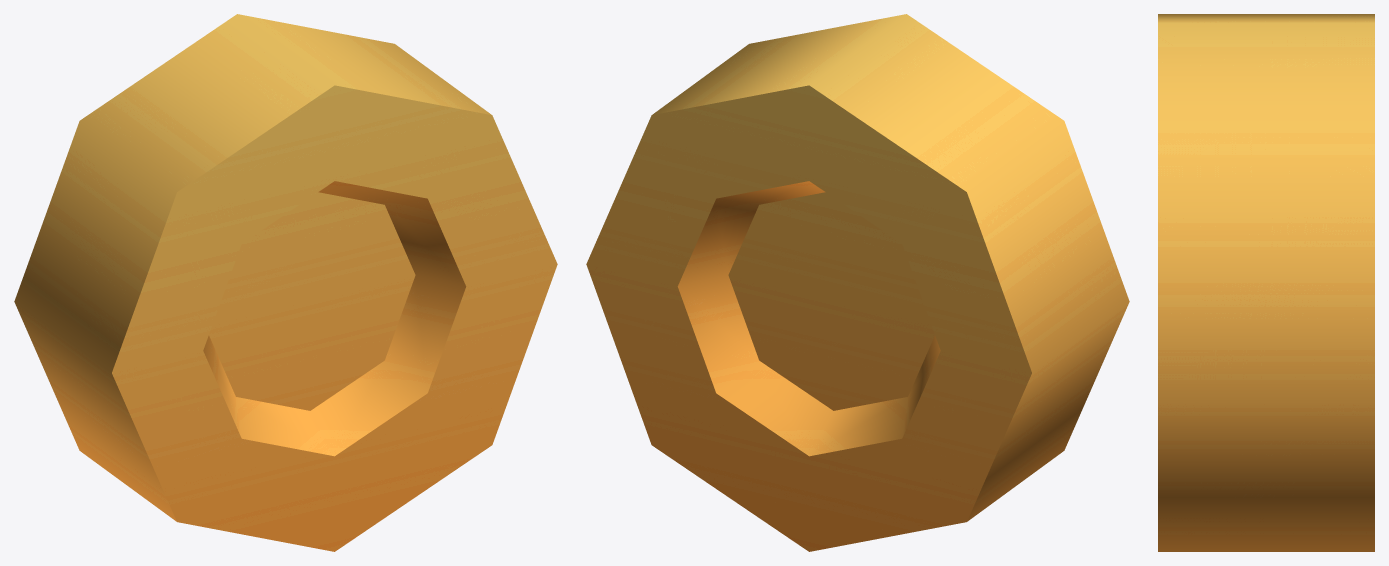
Rendered from coin.glb.
3 renders of one model, left to right at view 1: azimuth 30°, elevation 25°; view 2: azimuth 150°, elevation 25°; view 3: azimuth 270°, elevation 25°, orthographic. The views are drawn at different scales.
Visible parts, largest first — view 1: item-coin-gold; view 2: item-coin-gold; view 3: item-coin-gold.
Boxes of the visible parts, bbox=[...] form: item-coin-gold: bbox=[14, 14, 557, 551]; item-coin-gold: bbox=[586, 14, 1129, 551]; item-coin-gold: bbox=[1158, 14, 1374, 551].
Bounding box in the file's own units: 0.8976 × 0.8976 × 0.34.
1 material, 1 textured.
